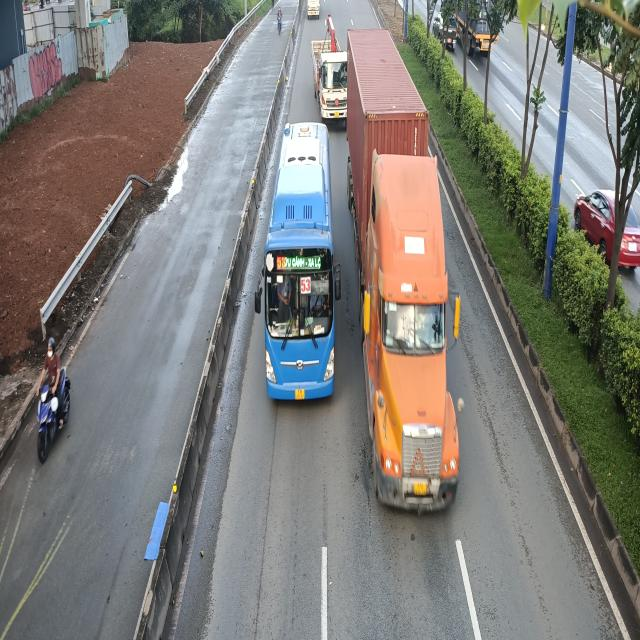coach: (255, 120, 339, 401)
container: (352, 31, 462, 525)
truck: (314, 18, 354, 128)
